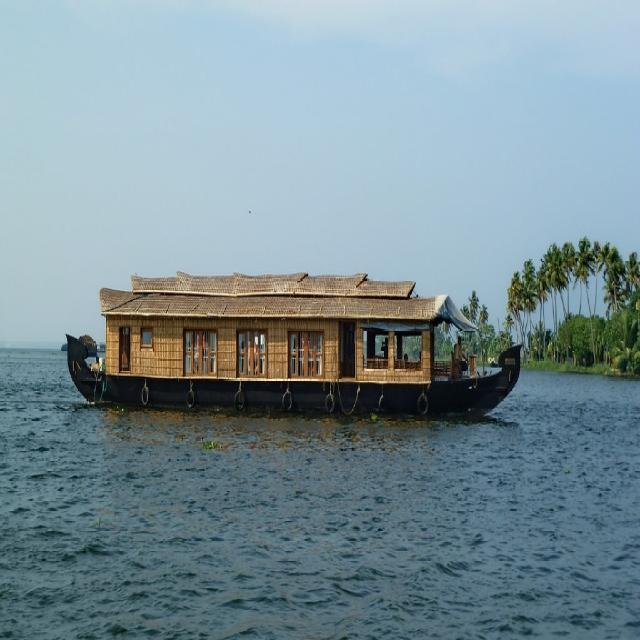boat: (60, 283, 527, 417)
